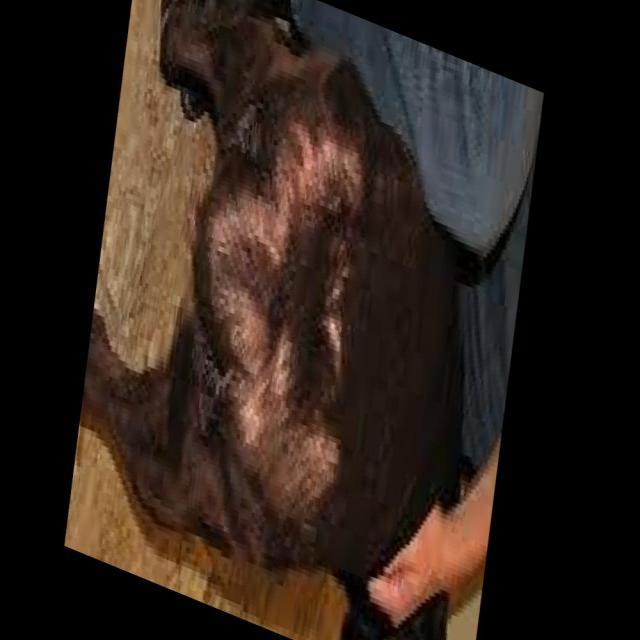allergic dermatitis: (211, 137, 367, 510)
